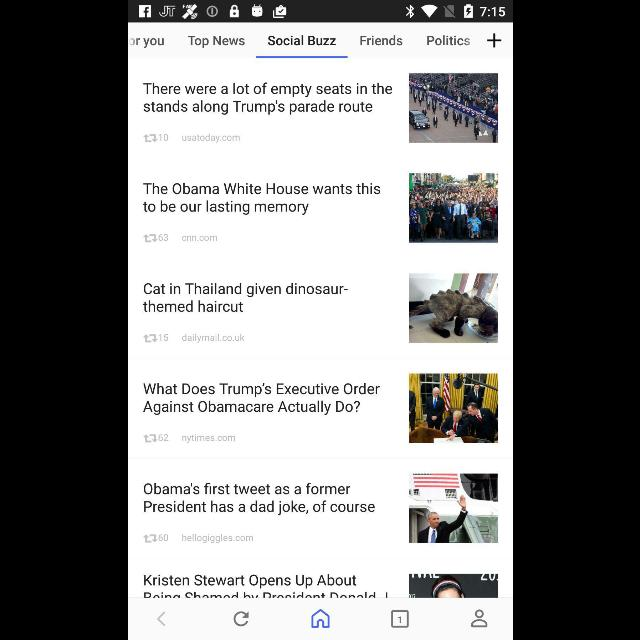icon: (311, 610, 329, 628), (471, 609, 487, 627), (232, 612, 248, 626), (486, 34, 500, 48), (143, 334, 157, 344), (142, 135, 158, 143), (143, 234, 157, 242), (143, 435, 157, 443), (143, 535, 157, 543), (156, 612, 164, 626)
image: (408, 473, 498, 542), (408, 373, 498, 442), (408, 274, 498, 342), (408, 174, 498, 242), (408, 74, 498, 142), (408, 574, 498, 598), (390, 610, 408, 628)
multitab: (128, 23, 512, 58)
text: (142, 82, 392, 116), (143, 482, 374, 516), (143, 383, 380, 415), (143, 183, 380, 215), (143, 574, 387, 598), (142, 284, 348, 312), (181, 534, 253, 544), (188, 36, 245, 48), (267, 36, 335, 46), (182, 333, 244, 343), (182, 434, 234, 444), (181, 134, 239, 142), (426, 36, 469, 46), (360, 36, 402, 46), (127, 38, 163, 48), (181, 235, 217, 241), (158, 534, 168, 542), (158, 434, 168, 442), (158, 334, 168, 342), (157, 234, 167, 242), (158, 134, 168, 142)
uppertaskbar: (128, 1, 512, 23)
